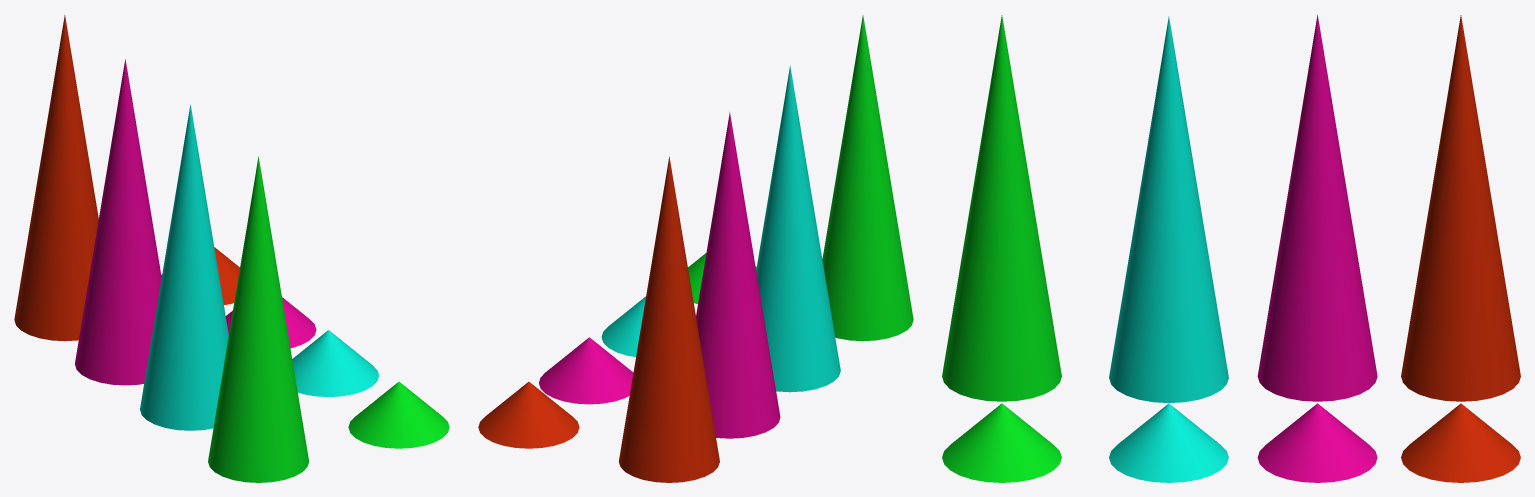
The model's file is obstaculos.fbx.
The picture shows the model from 3 angles, left to right: view 1: azimuth 30°, elevation 25°; view 2: azimuth 150°, elevation 25°; view 3: azimuth 270°, elevation 25°; orthographic projection. The views are drawn at different scales.
Parts seen in each view (by area): view 1: Cone008, Cone005, Cone006, Cone007, Cone004, Cone001, Cone002, Cone003; view 2: Cone007, Cone008, Cone005, Cone006, Cone003, Cone002, Cone001, Cone004; view 3: Cone007, Cone008, Cone006, Cone005, Cone001, Cone003, Cone004, Cone002.
Boxes of the visible parts, x1,y1,x2,y2 form: Cone008: (208,156,308,482); Cone005: (140,104,228,430); Cone006: (75,59,161,385); Cone007: (14,15,98,341); Cone004: (348,381,449,448); Cone001: (292,330,378,396); Cone002: (225,297,316,348); Cone003: (161,247,239,305); Cone007: (619,156,719,482); Cone008: (822,15,913,341); Cone005: (756,65,840,392); Cone006: (696,112,780,438); Cone003: (478,381,579,448); Cone002: (539,337,633,404); Cone001: (601,296,645,357); Cone004: (688,253,756,303); Cone007: (1401,15,1520,401); Cone008: (942,15,1061,401); Cone006: (1257,15,1377,401); Cone005: (1109,16,1228,402); Cone001: (1109,403,1228,482); Cone003: (1401,403,1520,482); Cone004: (942,403,1061,482); Cone002: (1257,403,1377,482).
Bounding box in the file's own units: 156 × 200 × 290.
